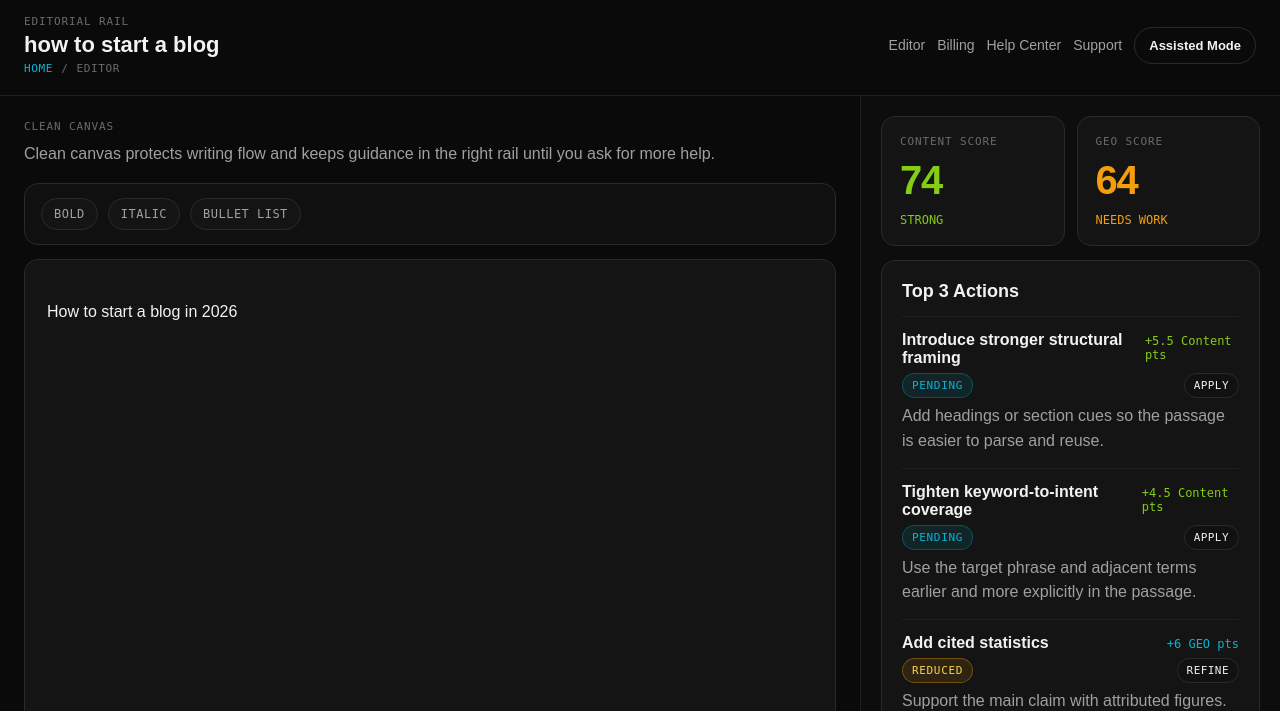
Test: EditorRail › applies an unresolved rail action into the draft from the right rail
The width and height of the screenshot is (1280, 711).
Step 1. Click the button "Assisted Mode" → [1195, 45], box [1134,26,1256,64]
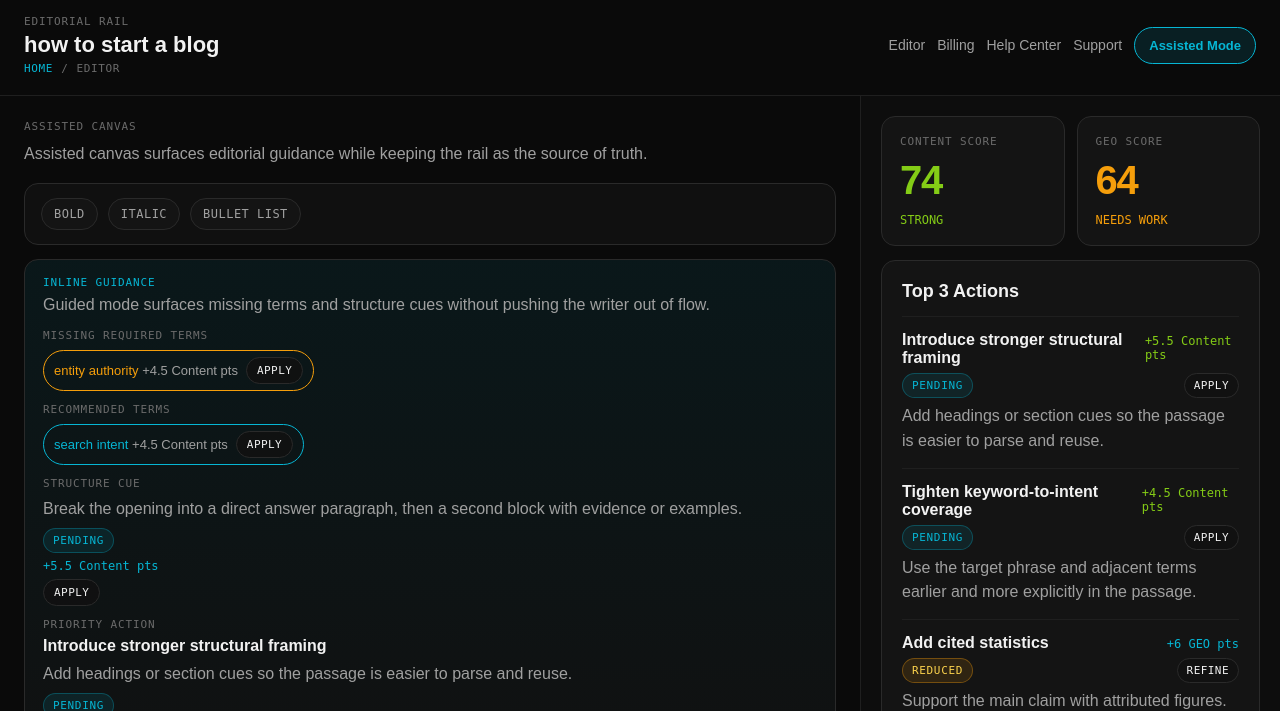
Step 2. Click the button with aria-label "apply structure cue" → [72, 592], box [43,579,100,606]
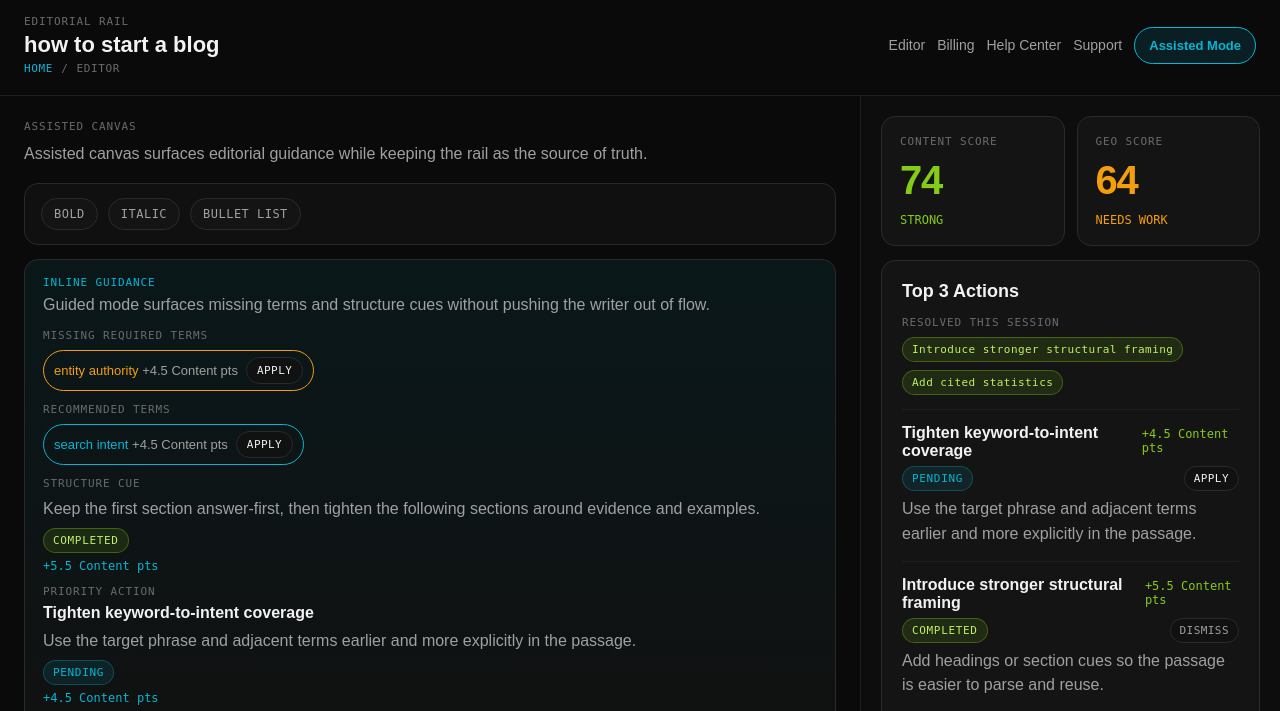
Step 3. Click the button with aria-label "apply rail action tighten keyword-to-intent coverage" → [1211, 478], box [1184,466,1239,491]
(page scrolled)
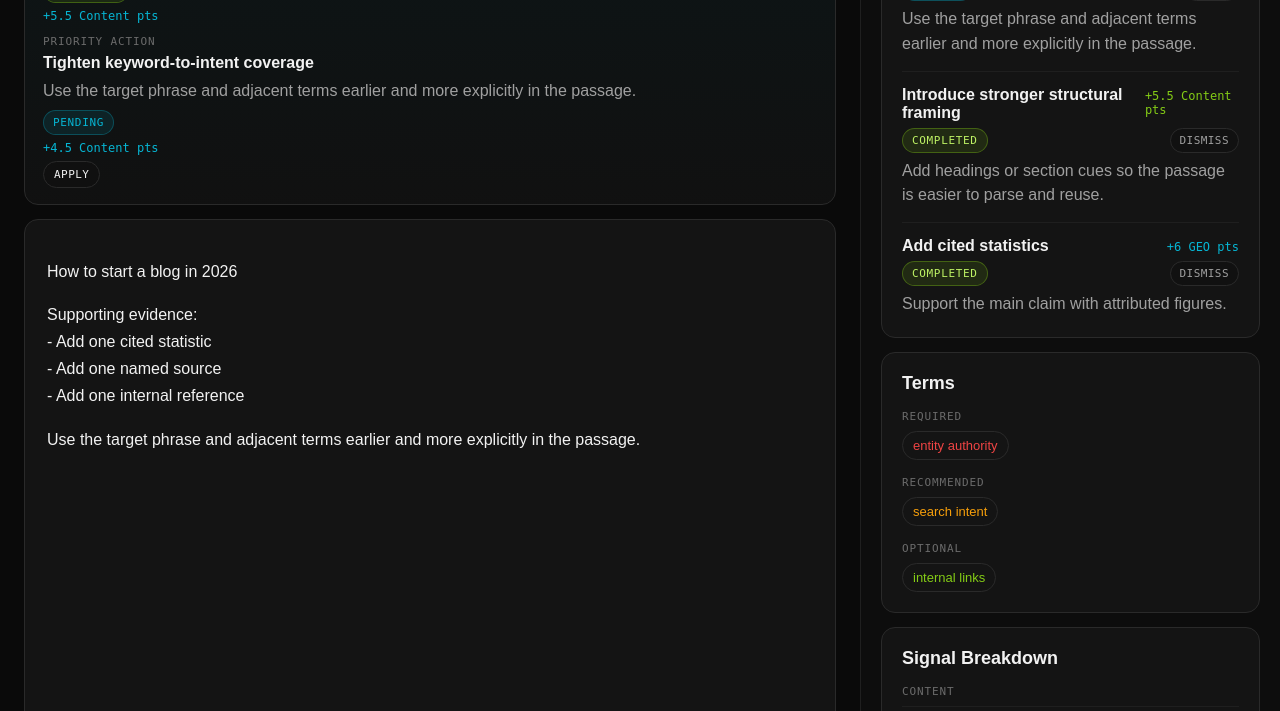
Expected: the field named "editor content" shows "use the target phrase and adjacent terms earlier and more explicitly", [47,263,640,448]
